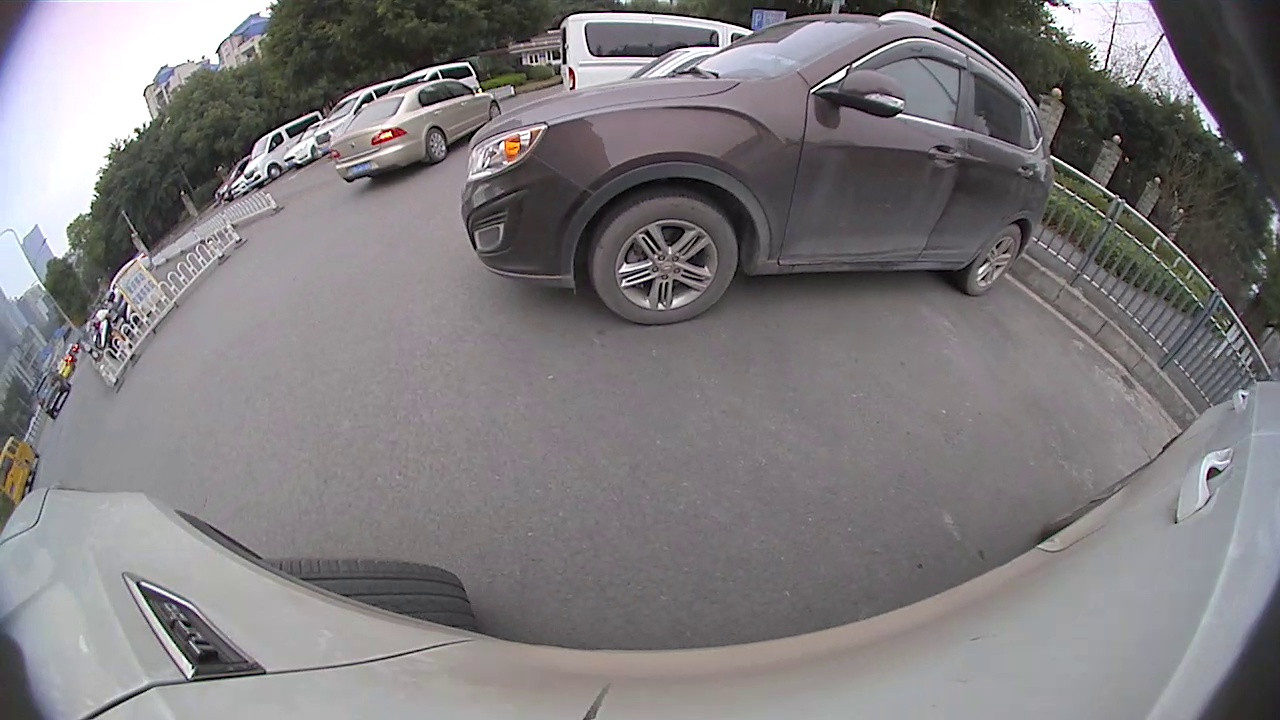car: (463, 8, 1057, 327), (330, 75, 503, 183), (557, 13, 759, 90)
front: (595, 198, 738, 327), (488, 101, 501, 123), (267, 163, 282, 179)
rear: (962, 222, 1024, 298), (426, 128, 449, 166)
